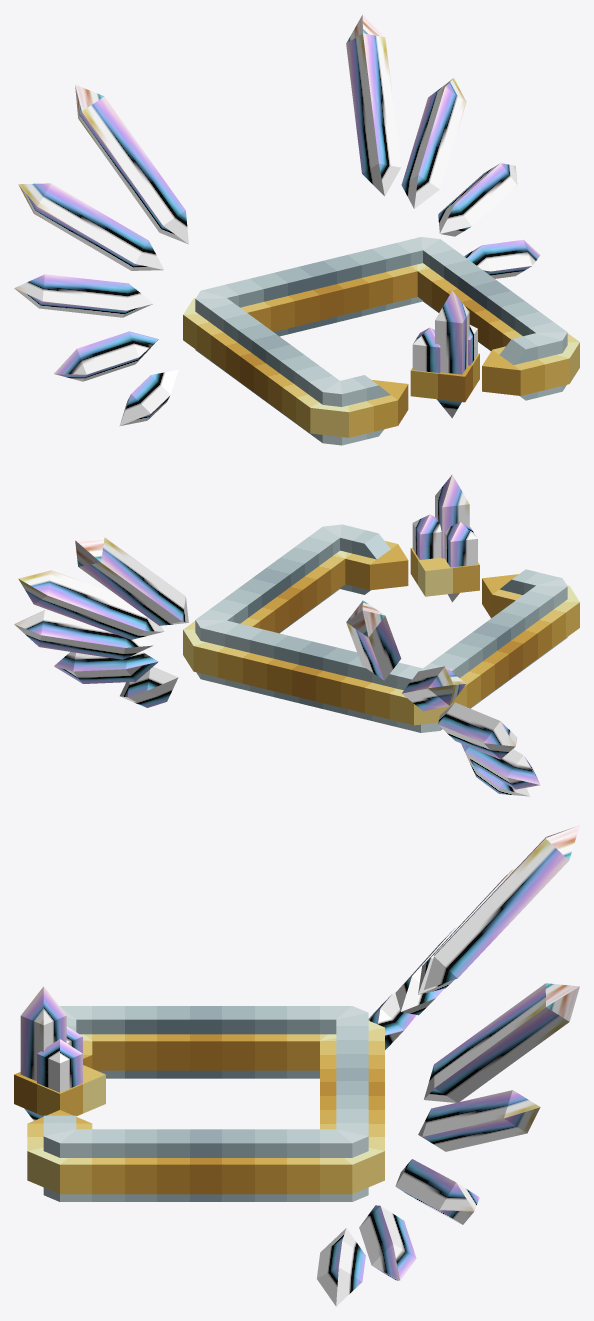
Rendered from crown_of_glory_inventory.obj.
The picture shows the model from 3 angles, top to bottom: view 1: azimuth 30°, elevation 25°; view 2: azimuth 150°, elevation 25°; view 3: azimuth 270°, elevation 25°; orthographic projection. The views are drawn at different scales.
Parts seen in each view (by area): view 1: CROWN_OF_GLORY_Cube.003; view 2: CROWN_OF_GLORY_Cube.003; view 3: CROWN_OF_GLORY_Cube.003.
Boxes of the visible parts, bbox=[...] form: CROWN_OF_GLORY_Cube.003: bbox=[14, 14, 579, 445]; CROWN_OF_GLORY_Cube.003: bbox=[14, 474, 579, 796]; CROWN_OF_GLORY_Cube.003: bbox=[14, 825, 579, 1306].
Bounding box in the file's own units: 1.28 × 0.6144 × 1.09.
